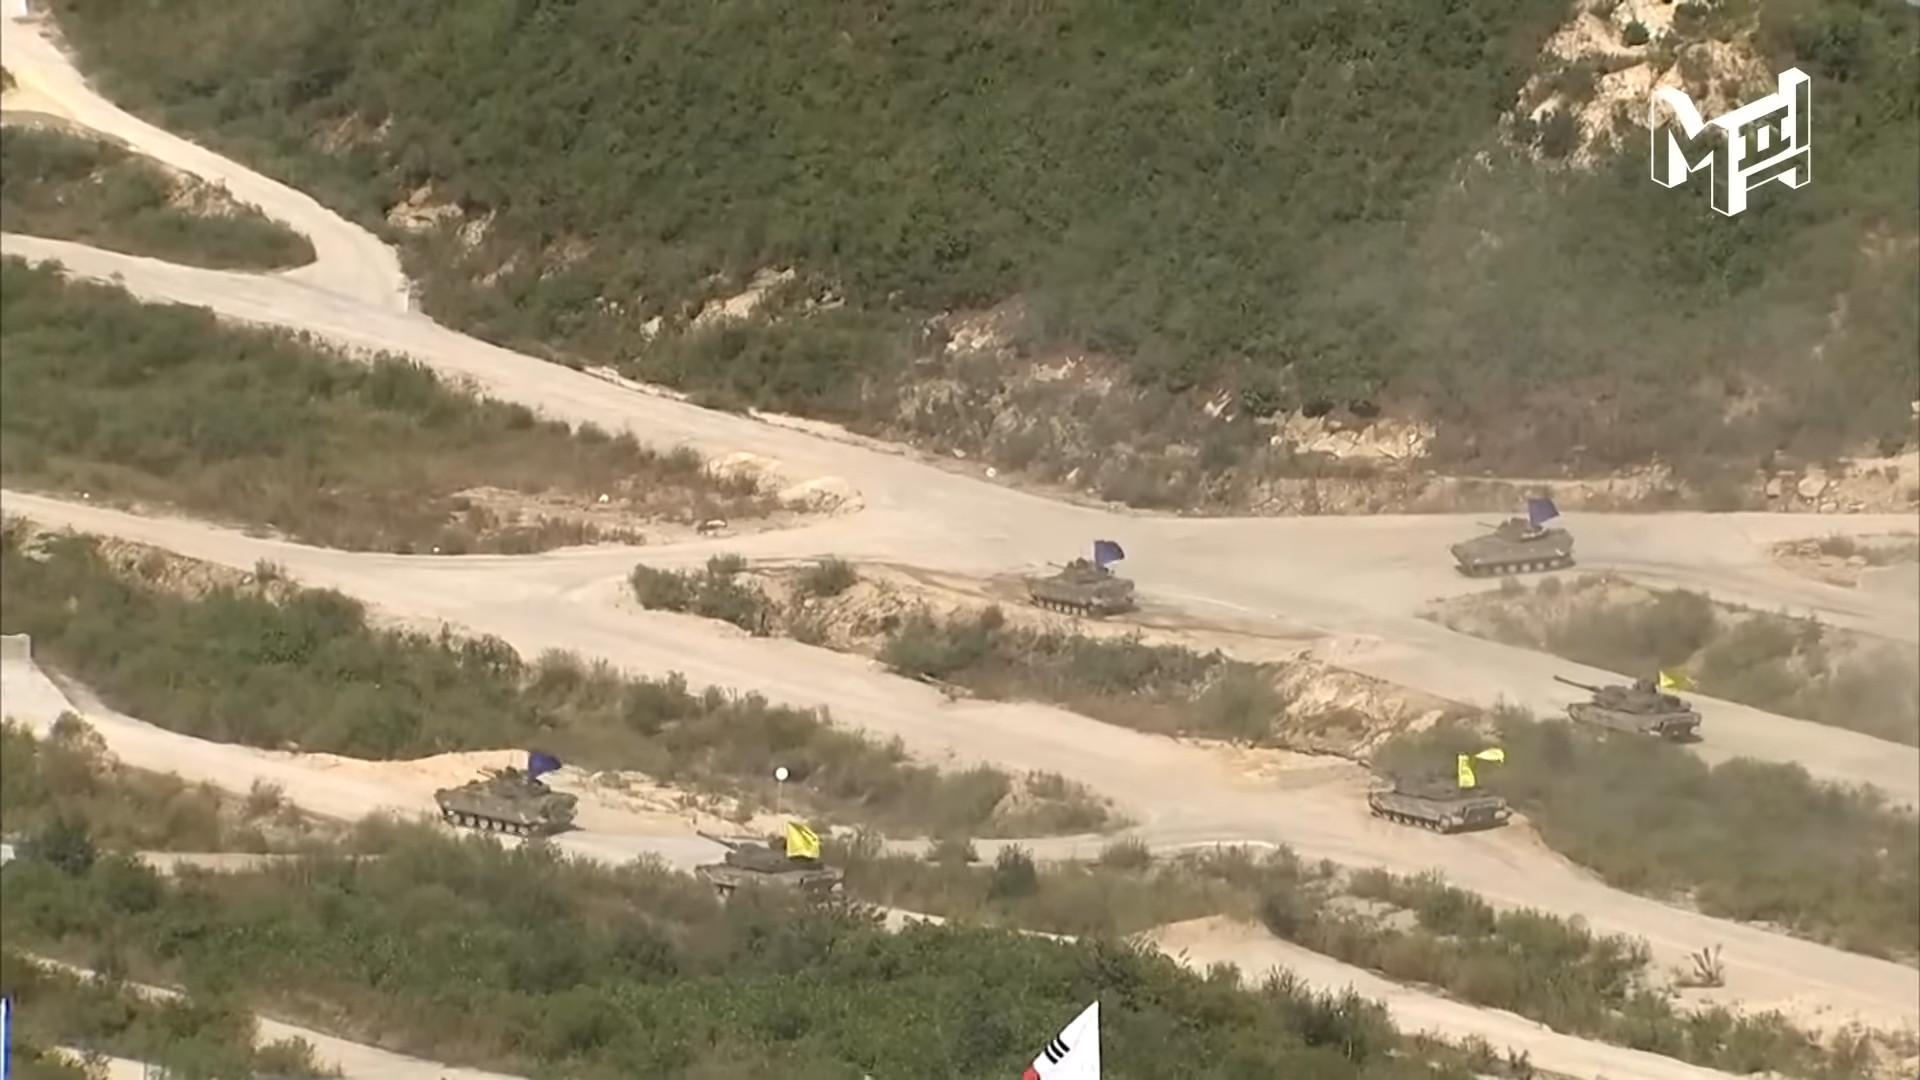tank: (694, 829, 841, 901), (434, 766, 578, 837), (1369, 769, 1513, 833), (1555, 675, 1701, 738), (1451, 518, 1576, 578), (1027, 556, 1135, 618)
